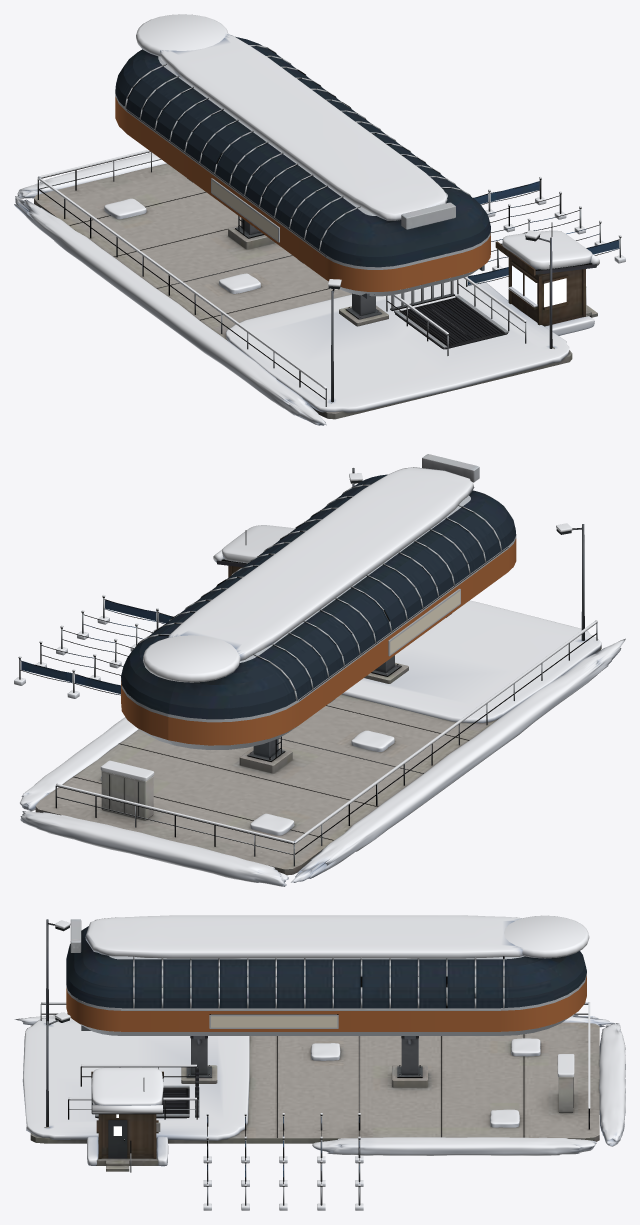
The model's file is terminal_detach_lpa.glb.
The picture shows the model from 3 angles, top to bottom: view 1: azimuth 30°, elevation 25°; view 2: azimuth 150°, elevation 25°; view 3: azimuth 270°, elevation 25°; orthographic projection. The views are drawn at different scales.
Parts seen in each view (by area): view 1: terminal_detach_lpa, terminal_detach_lpa_snow, terminal_detach_lpa_paint, terminal_detach_lpa_lit, terminal_detach_lpa_flat; view 2: terminal_detach_lpa, terminal_detach_lpa_snow, terminal_detach_lpa_paint, terminal_detach_lpa_flat; view 3: terminal_detach_lpa, terminal_detach_lpa_snow, terminal_detach_lpa_paint, terminal_detach_lpa_flat.
Boxes of the visible parts, left/top/right/bottom form: terminal_detach_lpa: left=34, top=36, right=621, bottom=419; terminal_detach_lpa_snow: left=14, top=14, right=625, bottom=425; terminal_detach_lpa_paint: left=115, top=56, right=490, bottom=296; terminal_detach_lpa_lit: left=512, top=265, right=566, bottom=307; terminal_detach_lpa_flat: left=211, top=180, right=277, bottom=240; terminal_detach_lpa: left=19, top=454, right=601, bottom=875; terminal_detach_lpa_snow: left=14, top=467, right=625, bottom=886; terminal_detach_lpa_paint: left=121, top=495, right=516, bottom=749; terminal_detach_lpa_flat: left=390, top=591, right=460, bottom=654; terminal_detach_lpa: left=30, top=919, right=599, bottom=1205; terminal_detach_lpa_snow: left=14, top=915, right=625, bottom=1210; terminal_detach_lpa_paint: left=66, top=956, right=586, bottom=1035; terminal_detach_lpa_flat: left=211, top=1016, right=337, bottom=1027.
Size of the model in its own units: 21.41 by 8.75 by 29.03.
7 materials, 1 textured.
